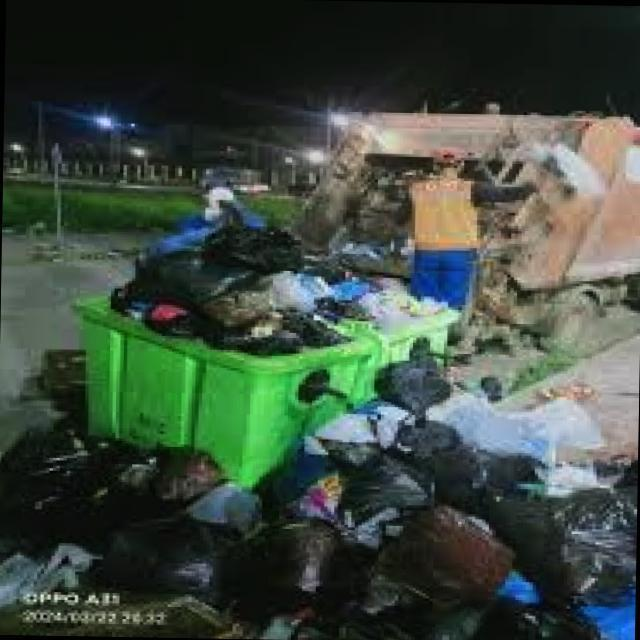garbage: (42, 116, 640, 640)
